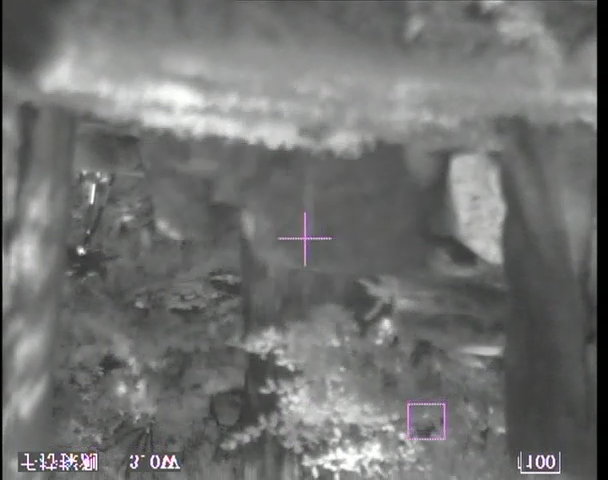my: (76, 246, 85, 256)
